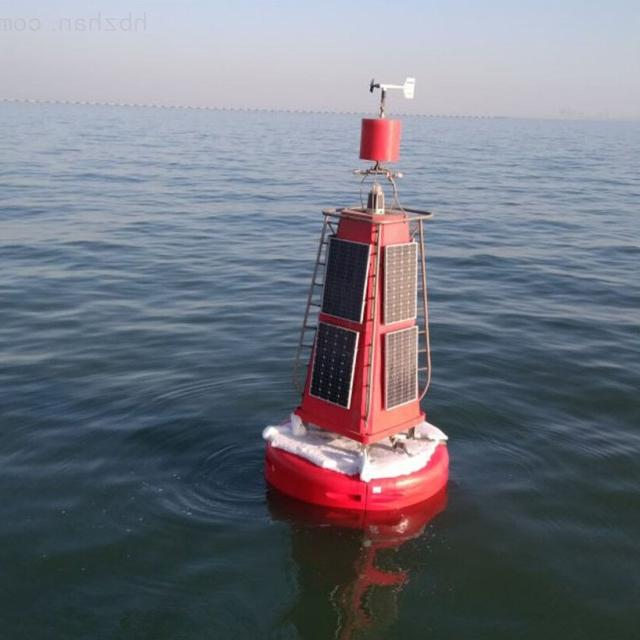buoy: (252, 73, 459, 510)
